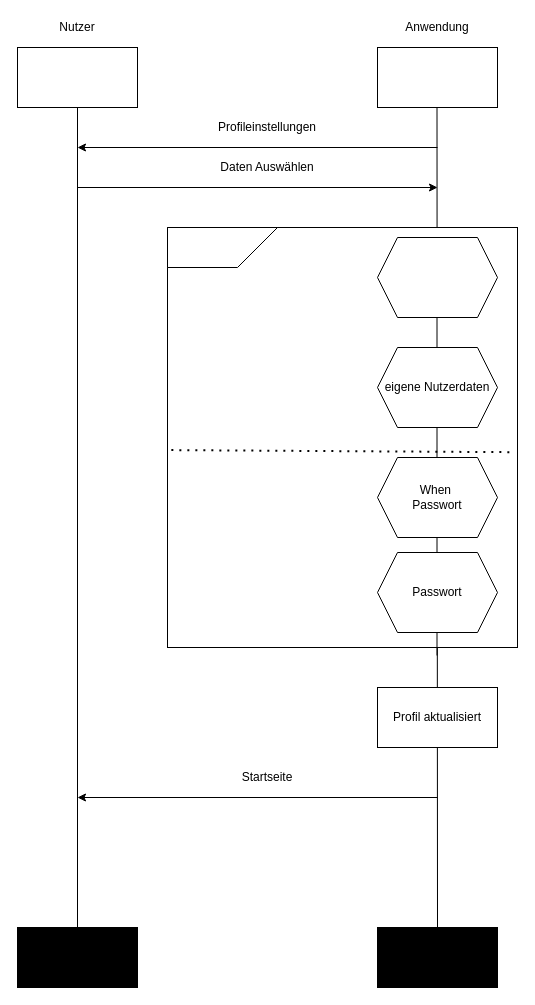
Image size: 535x1005. Some labels were removed from this diagram. Here are the shapes that lost their labels. From the top down, the centre of each, then its label:
the point at 222,247: alt
the point at 437,277: When Matrikelnummer oder E-Mail
